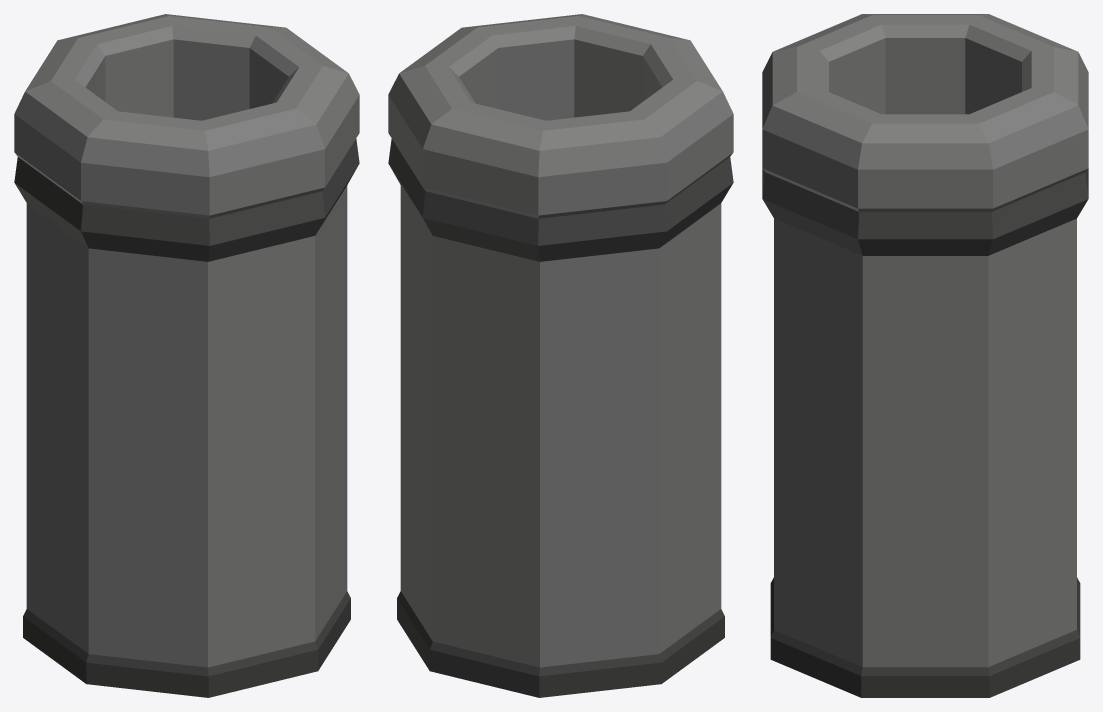
Rendered from SM_Props_Interior_Shop_Dustbin_02.fbx.
3 renders of one model, left to right at view 1: azimuth 30°, elevation 25°; view 2: azimuth 150°, elevation 25°; view 3: azimuth 270°, elevation 25°, orthographic.
Visible parts, largest first — view 1: SM_Props_Interior_Shop_Dustbin_02; view 2: SM_Props_Interior_Shop_Dustbin_02; view 3: SM_Props_Interior_Shop_Dustbin_02.
Boxes of the visible parts, box(x1,y1,x2,y2) form: SM_Props_Interior_Shop_Dustbin_02: box(14, 14, 359, 697); SM_Props_Interior_Shop_Dustbin_02: box(388, 14, 733, 697); SM_Props_Interior_Shop_Dustbin_02: box(762, 14, 1088, 697).
Bounding box in the file's own units: 28.86 × 54.96 × 28.86.
